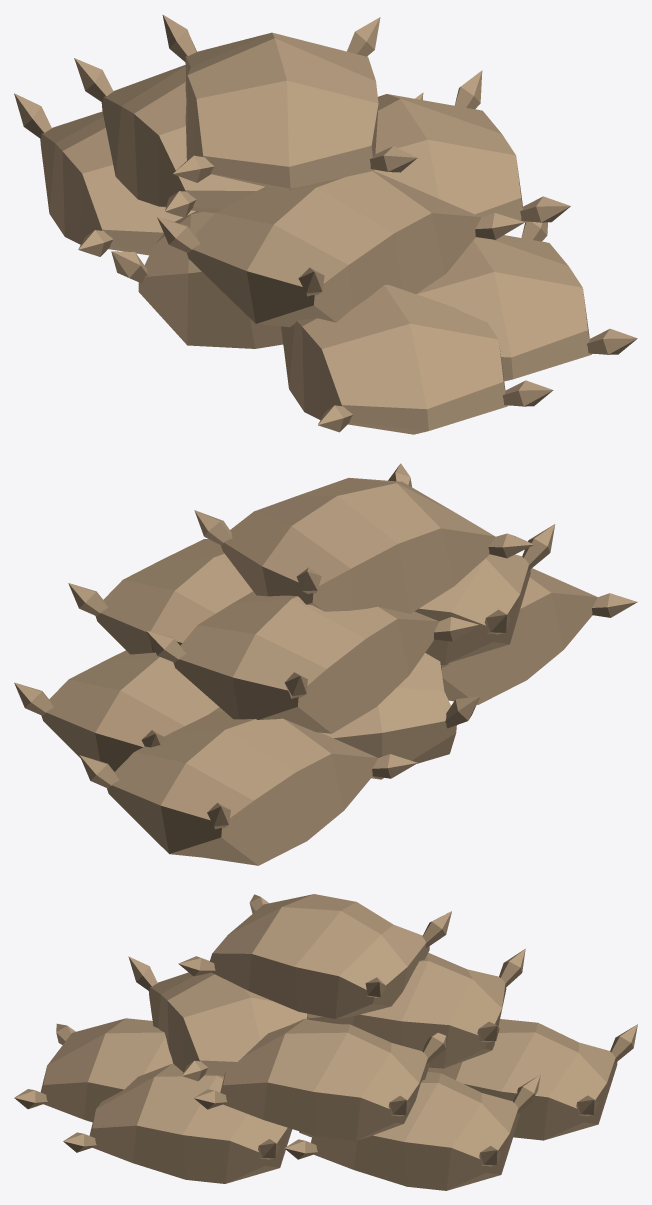
Rendered from sack.fbx.
The picture shows the model from 3 angles, top to bottom: view 1: azimuth 30°, elevation 25°; view 2: azimuth 150°, elevation 25°; view 3: azimuth 270°, elevation 25°; orthographic projection. The views are drawn at different scales.
Visible parts, largest first — view 1: group181920446.002; view 2: group181920446.002; view 3: group181920446.002.
Boxes of the visible parts, x1,y1,x2,y2 form: group181920446.002: (14, 14, 637, 434); group181920446.002: (14, 463, 637, 865); group181920446.002: (14, 894, 637, 1190).
Bounding box in the file's own units: 161 × 109 × 277.
